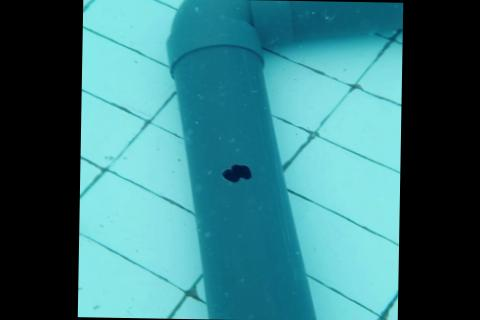kebocoran: (220, 161, 252, 182)
